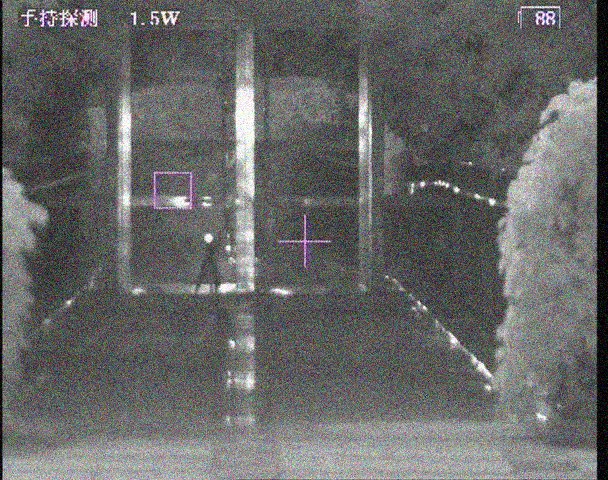my: (202, 231, 214, 243)
